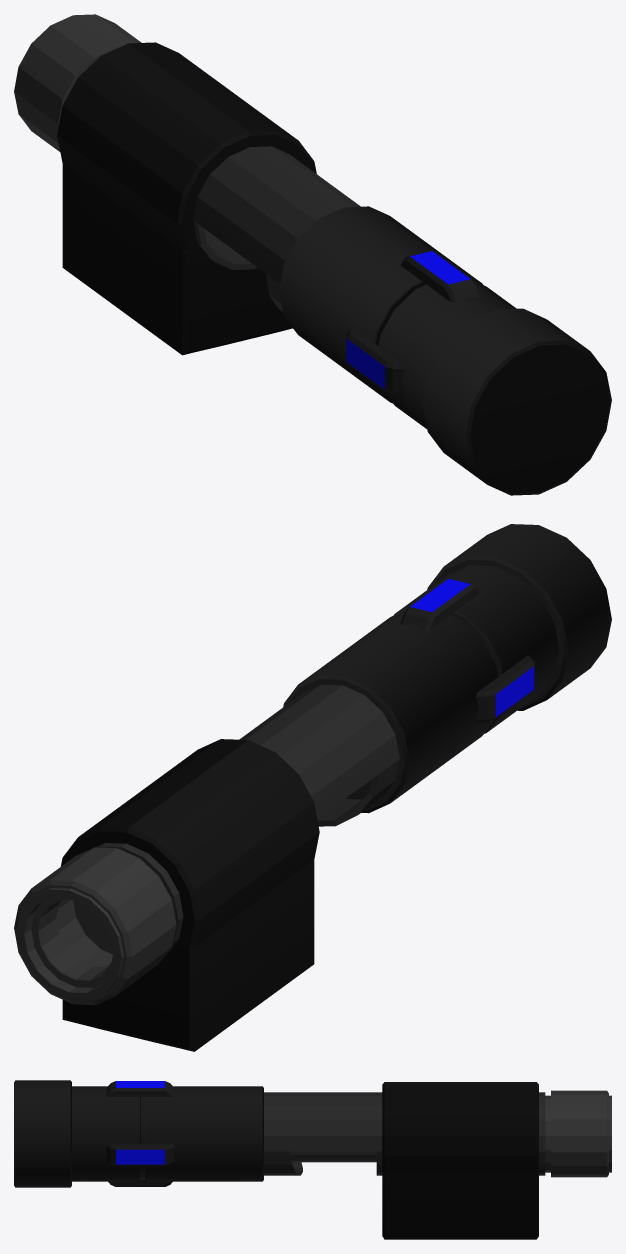
Rendered from Msh_LaserSight.FBX.
3 views of the same model, one above another, from view 1: azimuth 30°, elevation 25°; view 2: azimuth 150°, elevation 25°; view 3: azimuth 270°, elevation 25° (orthographic). The views are drawn at different scales.
Visible parts, largest first — view 1: Msh_LaserSight; view 2: Msh_LaserSight; view 3: Msh_LaserSight.
Boxes of the visible parts, left/top/right/bottom form: Msh_LaserSight: left=14, top=14, right=611, bottom=495; Msh_LaserSight: left=14, top=524, right=611, bottom=1051; Msh_LaserSight: left=14, top=1080, right=611, bottom=1239.
Size of the model in its own units: 3.59 by 4.87 by 19.56.
